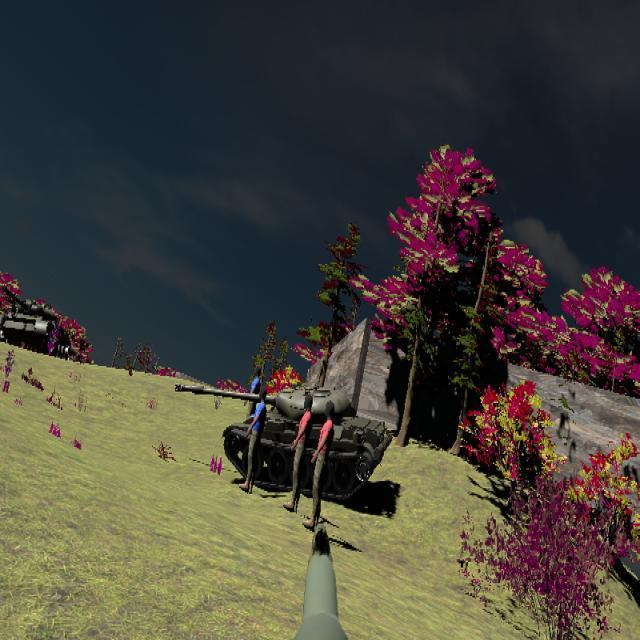Human: (302, 397, 336, 531), (284, 395, 320, 513), (242, 378, 269, 506), (289, 387, 314, 523)
Tank: (175, 383, 392, 501), (0, 291, 59, 353)
